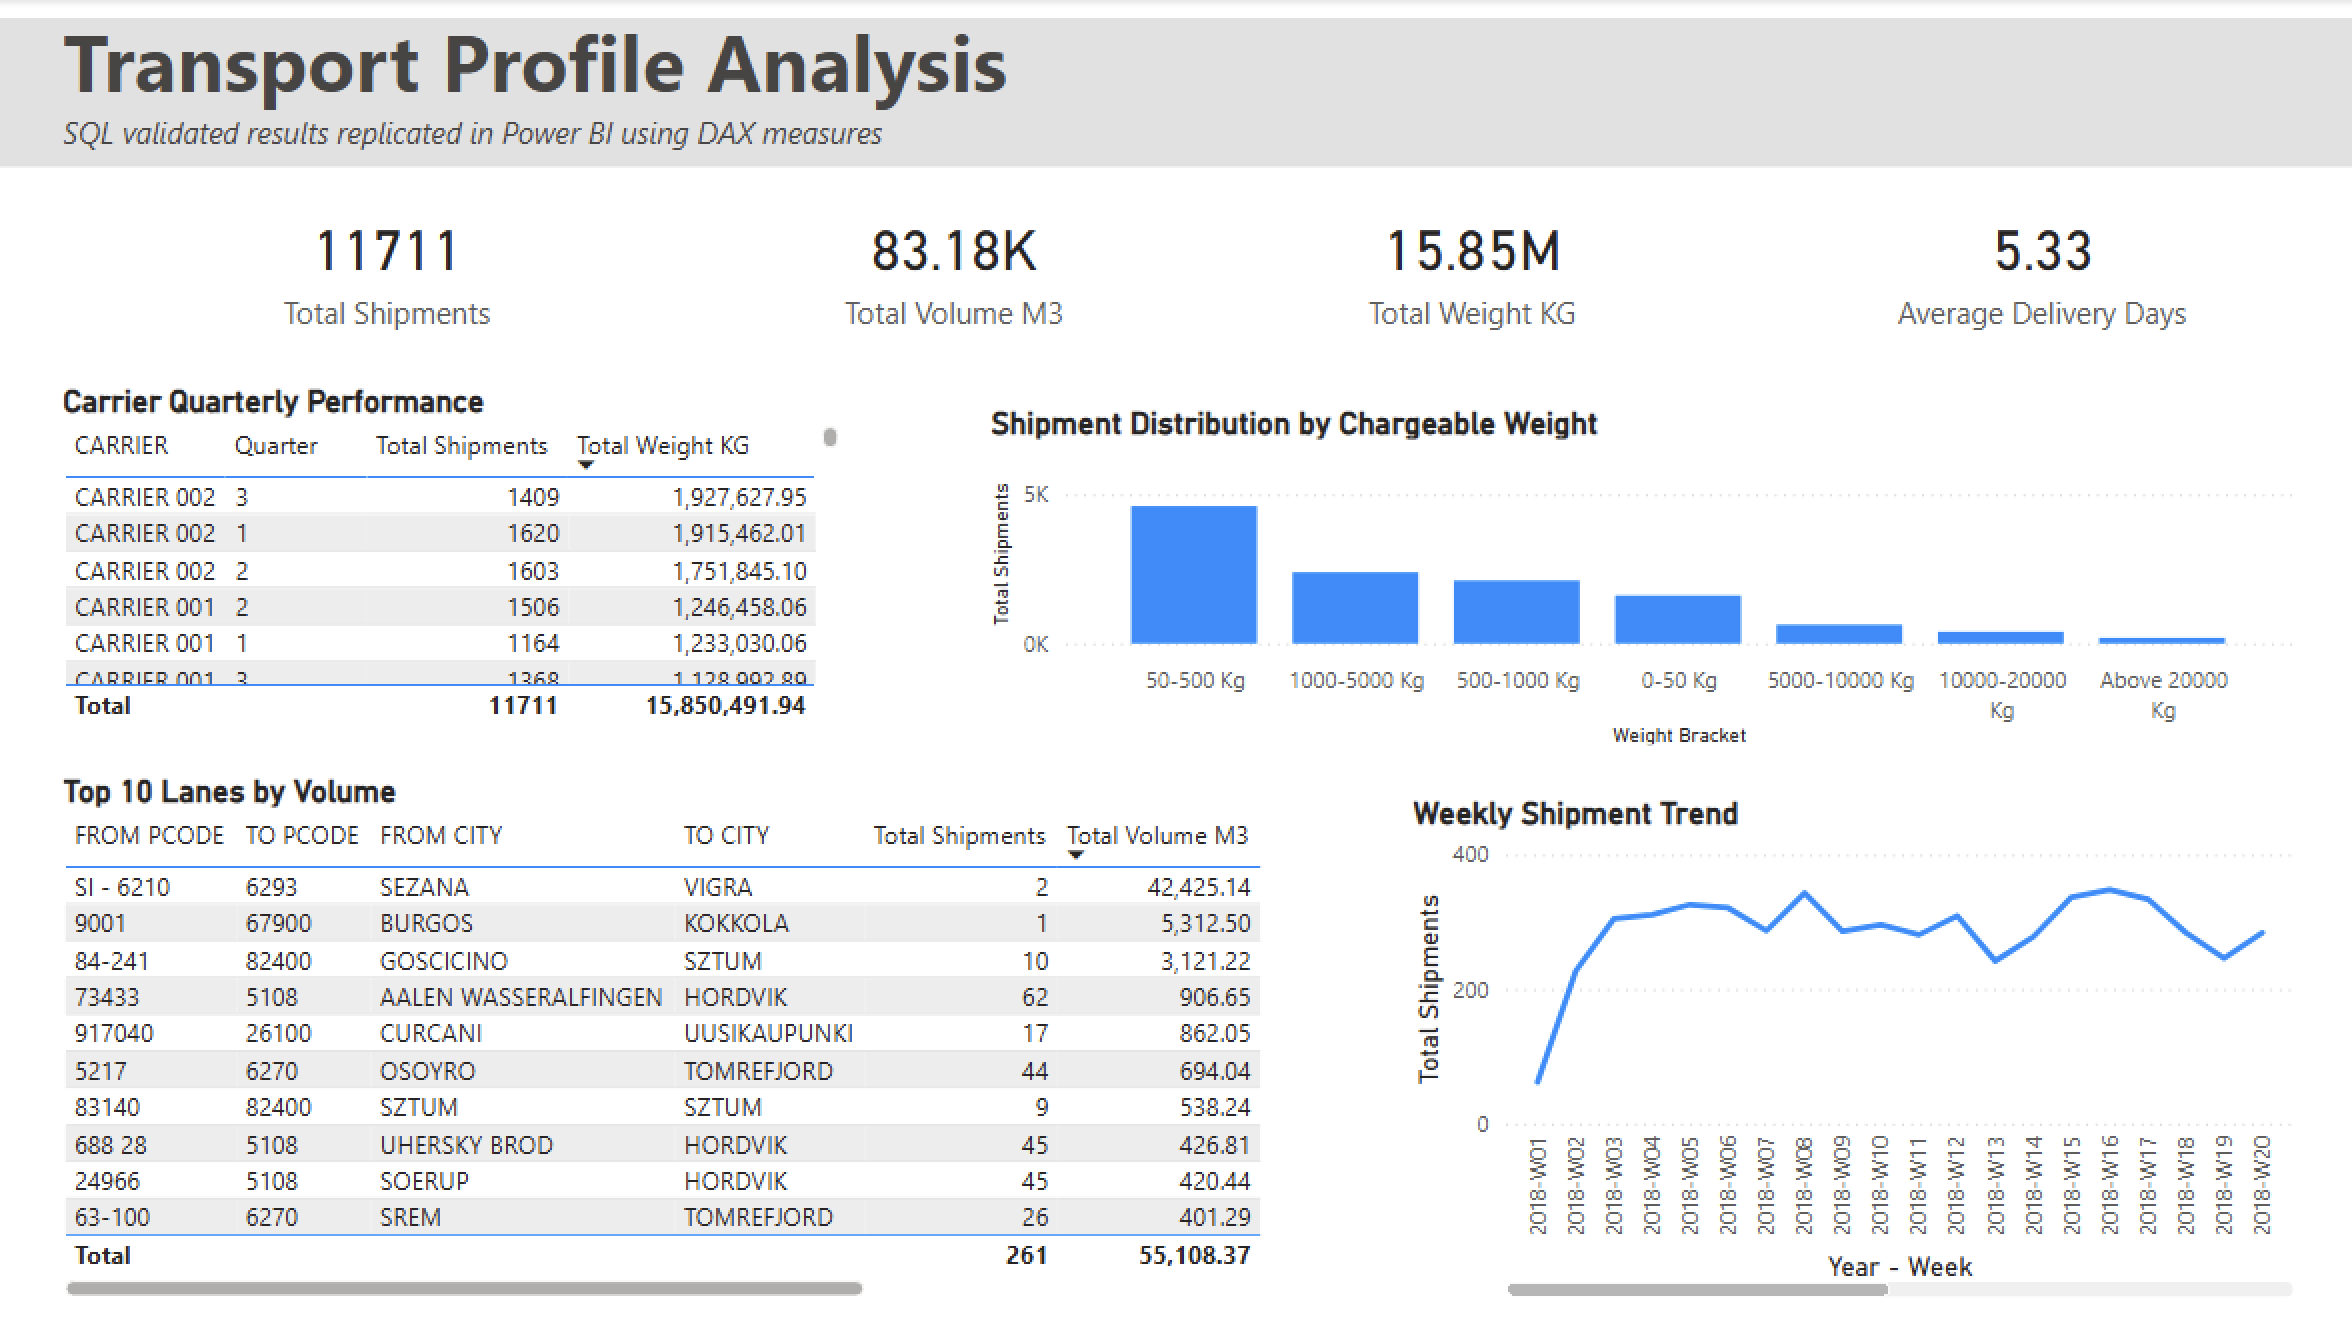

What the dashboard file says about the page in this screenshot:
{"tool":"powerbi","page":{"name":"Transport Profile Analysis","canvas":[1280,720],"ordinal":0},"visuals":[{"type":"tableEx","title":"Carrier Quarterly Performance","fields":{"Values":["Table1.CARRIER","Table1.Q","Table1.Total Shipments","Table1.Total Weight KG"]},"box":[30.4,208.5,431.1,169.4],"z":0},{"type":"card","fields":{"Values":["Table1.Average Delivery Days"]},"box":[985,92.3,249.8,107.5],"z":1},{"type":"tableEx","title":"Top 10 Lanes by Volume","fields":{"Values":["Table1.FROM PCODE","Table1.TO PCODE","Table1.FROM CITY","Table1.TO CITY","Table1.Total Shipments","Table1.Total Volume M3","Table1.Lane Detail"]},"box":[30.4,420.3,660.3,290],"z":2},{"type":"lineChart","title":"Weekly Shipment Trend","fields":{"Category":["Table1.Ano Semana"],"Y":["Table1.Total Shipments"]},"box":[763.4,432.2,487.6,278],"z":3},{"type":"columnChart","title":"Shipment Distribution by Chargeable Weight","fields":{"Category":["Table1.Weight Bracket"],"Y":["Table1.Total Shipments"]},"box":[534.3,220.5,716.7,190],"z":4},{"type":"textbox","box":[30.4,0,573.4,92.3],"z":5},{"type":"card","fields":{"Values":["Table1.Total Shipments"]},"box":[79.3,92.3,263.9,107.5],"z":6},{"type":"card","fields":{"Values":["Table1.Total Weight KG"]},"box":[657,92.3,286.7,107.5],"z":7},{"type":"card","fields":{"Values":["Table1.Total Volume M3"]},"box":[381.2,92.3,275.8,107.5],"z":8},{"type":"shape","box":[0,10.9,1280.4,81.4],"z":9}]}

Visuals, with their boxes in screenshot pixels (x1, y1, x2, y2), scaled from the page's 1280x720 canvas onto the 2352x1324 screenshot:
"Carrier Quarterly Performance" tableEx: locate(56, 383, 848, 695)
card - Table1.Average Delivery Days: locate(1810, 170, 2269, 367)
"Top 10 Lanes by Volume" tableEx: locate(56, 773, 1269, 1306)
"Weekly Shipment Trend" lineChart: locate(1403, 795, 2299, 1306)
"Shipment Distribution by Chargeable Weight" columnChart: locate(982, 405, 2299, 755)
textbox: locate(56, 0, 1109, 170)
card - Table1.Total Shipments: locate(146, 170, 631, 367)
card - Table1.Total Weight KG: locate(1207, 170, 1734, 367)
card - Table1.Total Volume M3: locate(700, 170, 1207, 367)
shape: locate(0, 20, 2351, 170)
